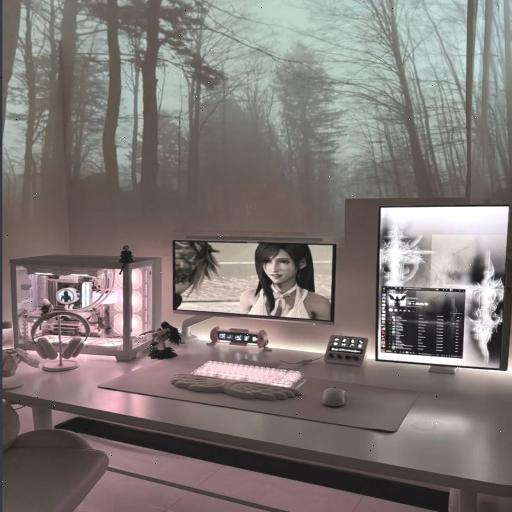computer case: (13, 251, 163, 354)
monitor: (374, 205, 511, 372), (173, 241, 335, 322)
